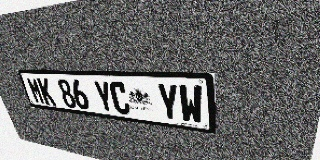6: (69, 79, 91, 110)
8: (56, 79, 77, 108)
C: (108, 81, 131, 115)
K: (36, 78, 56, 106)
M: (26, 77, 46, 104)
W: (178, 84, 203, 125)
Y: (156, 83, 181, 122), (93, 80, 115, 113)
